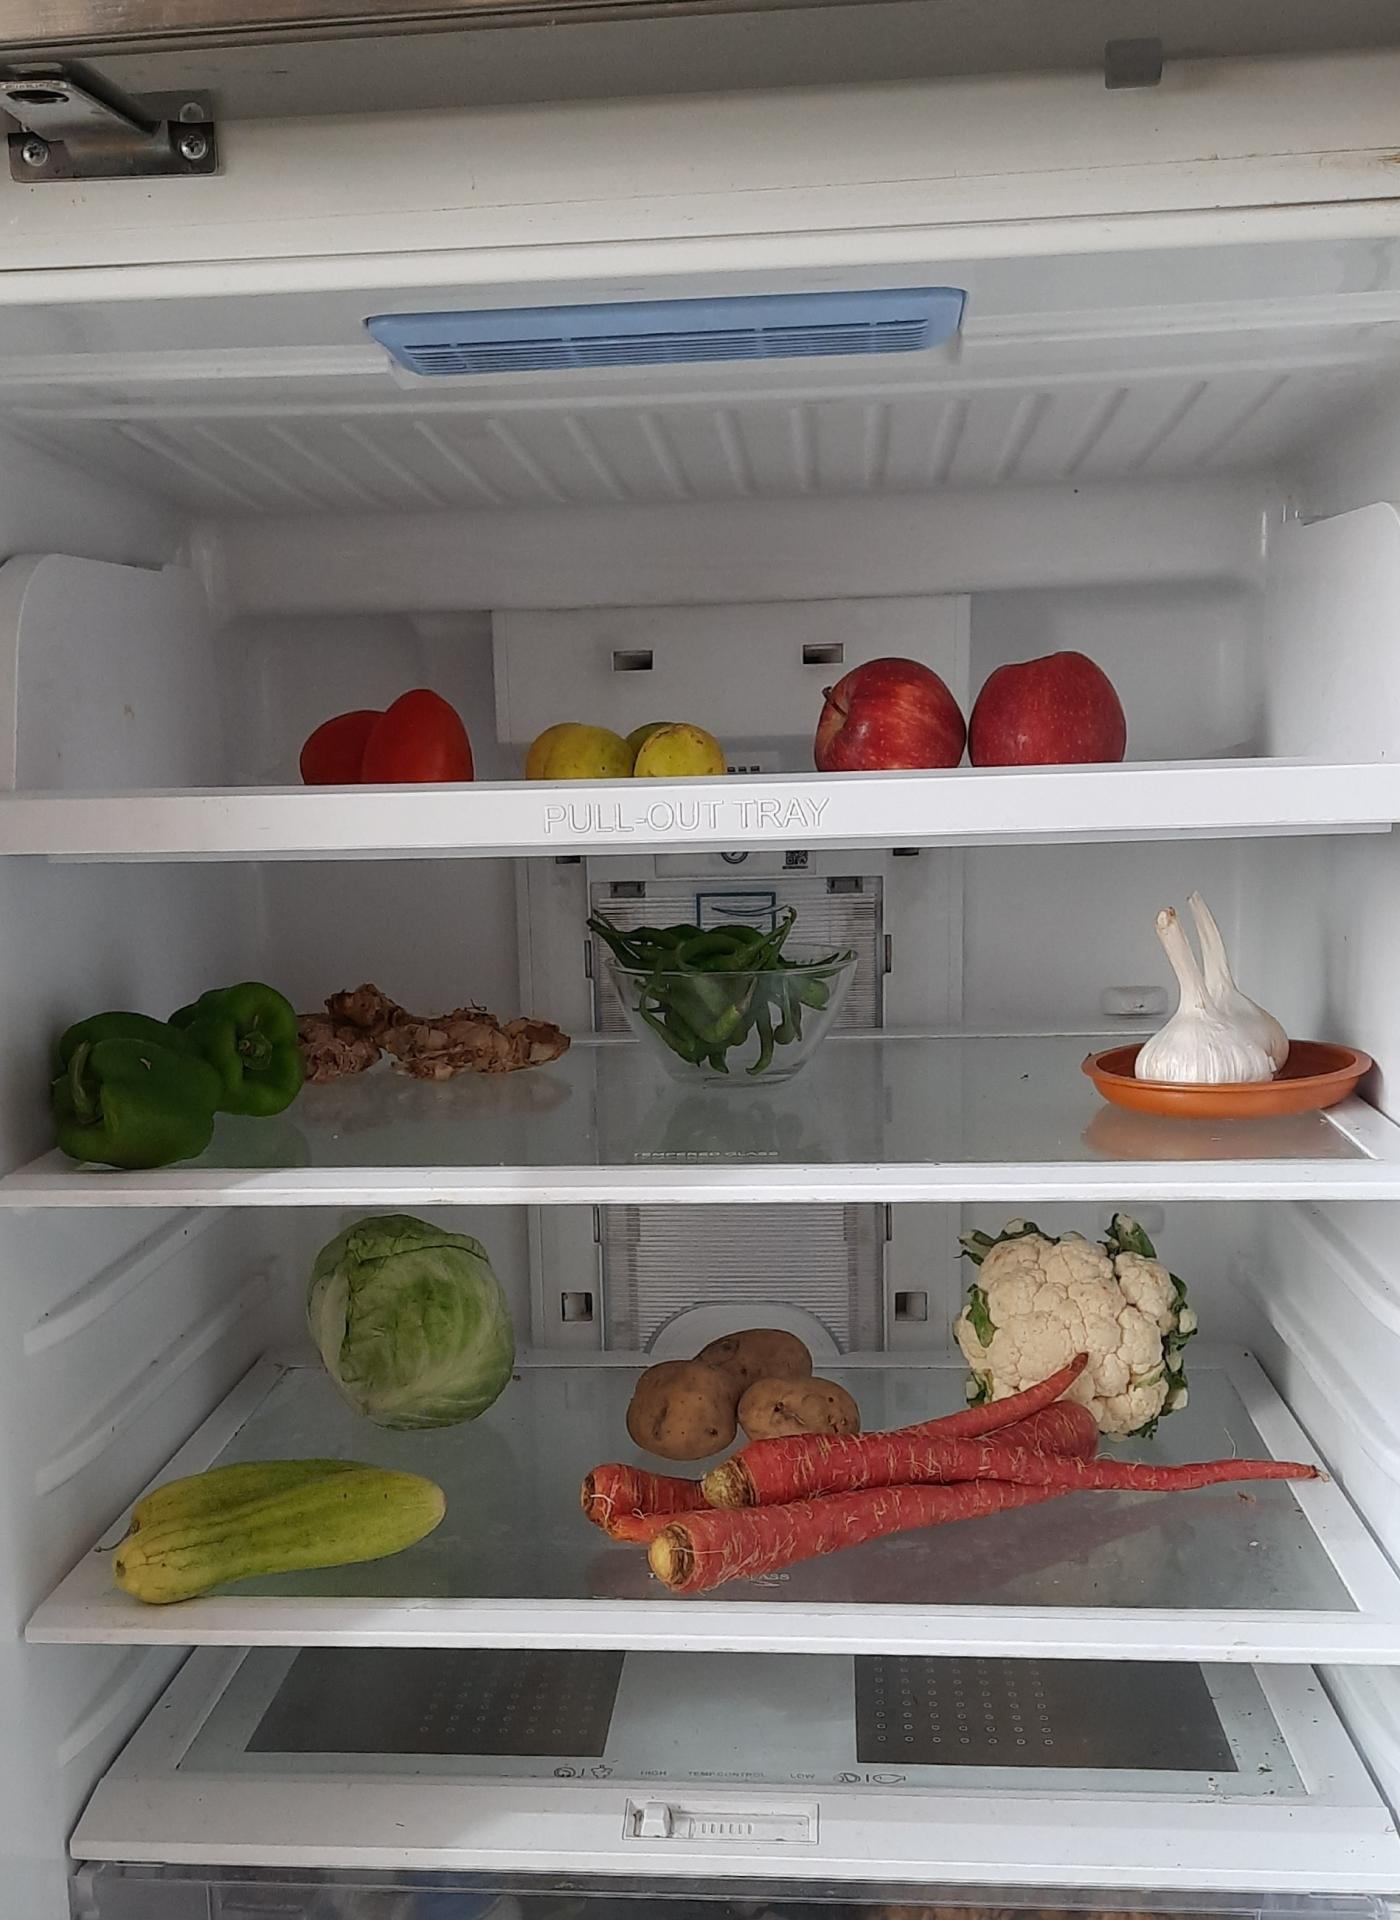apple: (822, 653, 1124, 766)
cabbage: (303, 1219, 514, 1424)
capsicum: (24, 930, 321, 1160)
carrots: (576, 1436, 1358, 1589)
cauliflower: (935, 1218, 1236, 1447)
chillies: (589, 884, 836, 1093)
cucumber: (112, 1465, 452, 1595)
garlic: (1124, 891, 1279, 1094)
ginger: (285, 979, 574, 1088)
lemon: (540, 713, 728, 772)
potato: (635, 1327, 869, 1437)
tomato: (303, 684, 486, 780)
